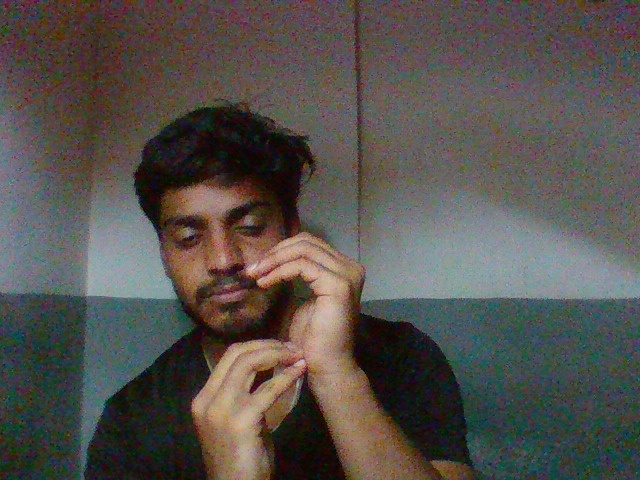S: (167, 230, 378, 480)
